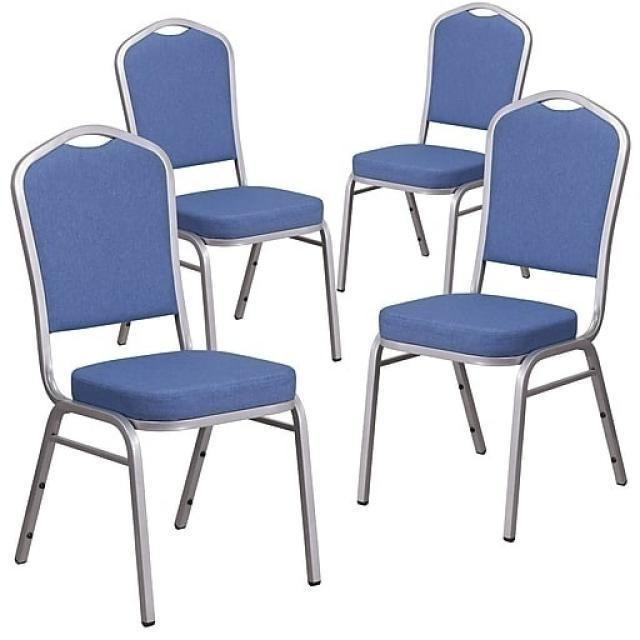chair: (8, 123, 328, 632), (359, 86, 640, 550), (110, 14, 352, 370), (358, 4, 546, 308)
